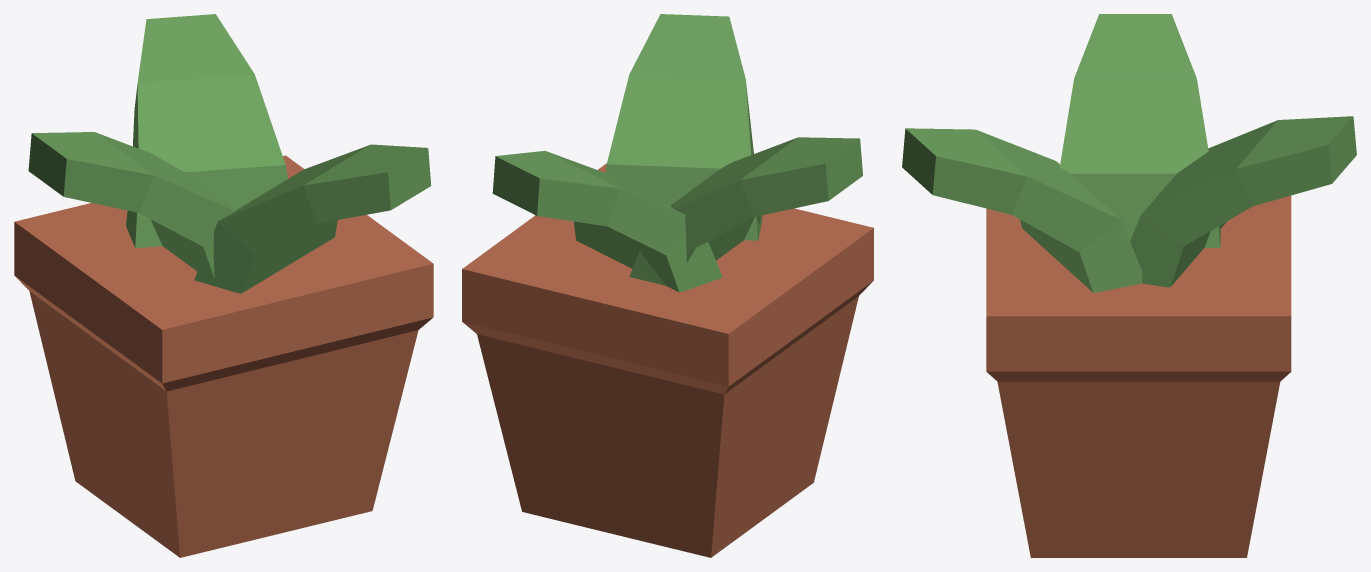
The model's file is SM_Flower_01.fbx.
3 renders of one model, left to right at view 1: azimuth 30°, elevation 25°; view 2: azimuth 150°, elevation 25°; view 3: azimuth 270°, elevation 25°, orthographic. The views are drawn at different scales.
Parts seen in each view (by area): view 1: SM_Flower_01; view 2: SM_Flower_01; view 3: SM_Flower_01.
Boxes of the visible parts, left/top/right/bottom form: SM_Flower_01: left=14, top=14, right=433, bottom=557; SM_Flower_01: left=462, top=14, right=873, bottom=557; SM_Flower_01: left=902, top=14, right=1356, bottom=557.
Size of the model in its own units: 24.44 by 29.21 by 29.61.
